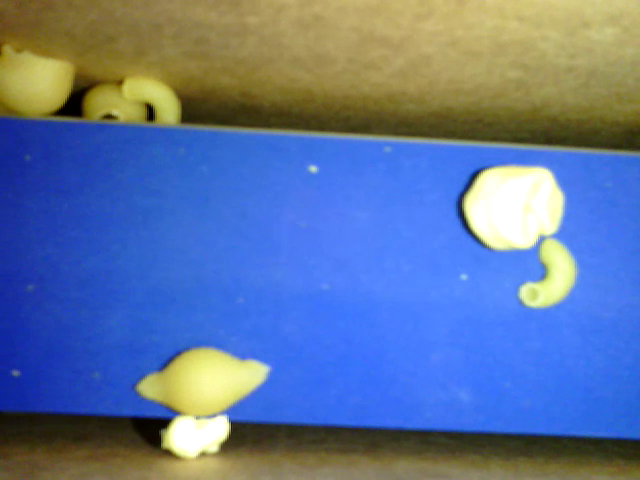elbow: (518, 236, 579, 311), (126, 75, 180, 125)
shell: (136, 346, 271, 414), (1, 43, 76, 117), (81, 84, 147, 125)
